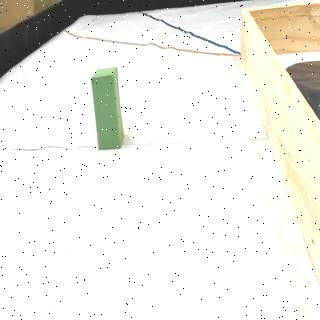greenbox: (93, 69, 123, 152)
